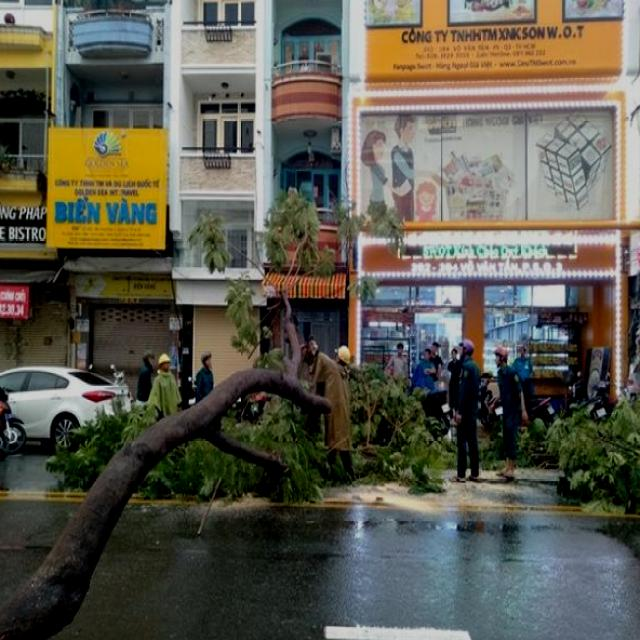fallen_object: (0, 301, 372, 640), (551, 378, 640, 524)
